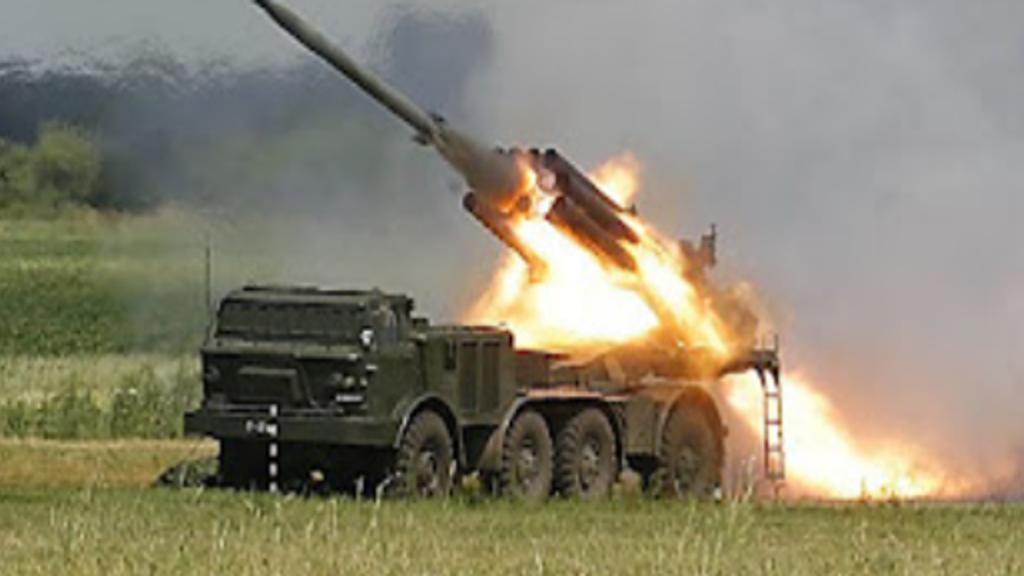MLRS: (168, 142, 786, 510)
